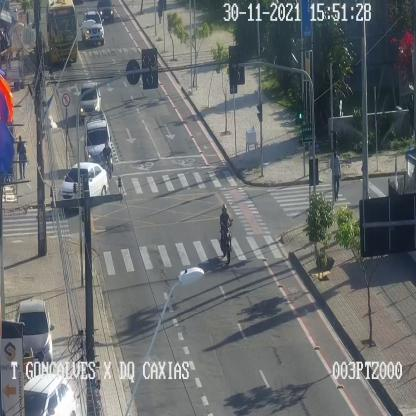bus: (44, 0, 78, 69)
car: (16, 300, 52, 371), (58, 162, 107, 212), (23, 374, 76, 416), (84, 113, 112, 168), (80, 81, 100, 119), (82, 10, 103, 44)
motorbike: (219, 203, 232, 263), (100, 139, 112, 187)
person: (330, 148, 341, 200), (17, 135, 26, 179)
